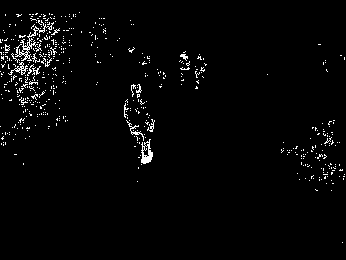person: (124, 80, 156, 165)
